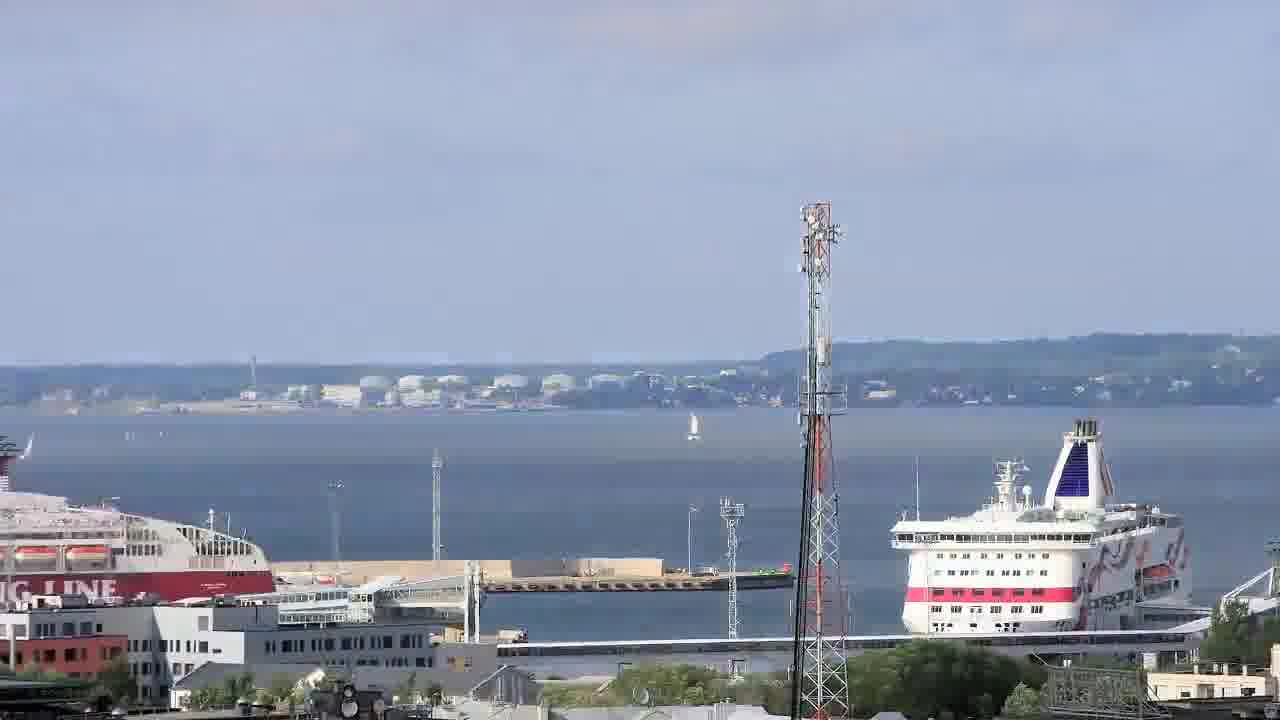type-2: (679, 397, 732, 454)
type-3: (868, 415, 1225, 638), (0, 429, 278, 625), (84, 537, 359, 610)
